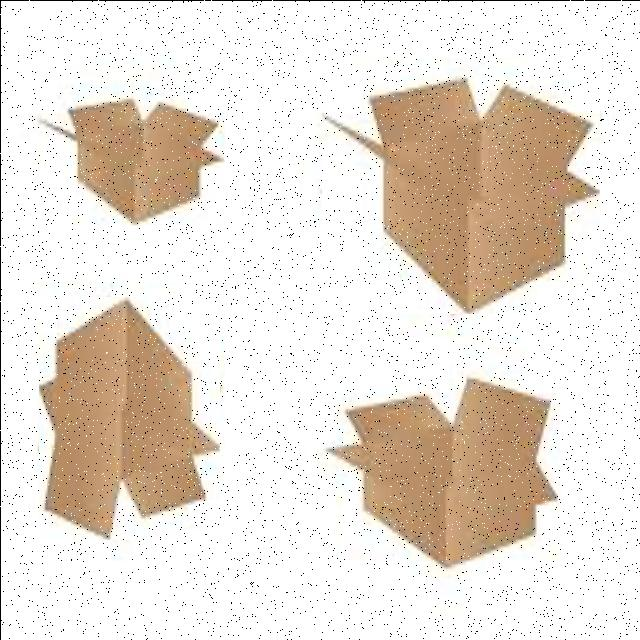defect: (321, 75, 599, 313), (326, 376, 559, 567), (38, 296, 219, 539), (30, 93, 223, 221)
